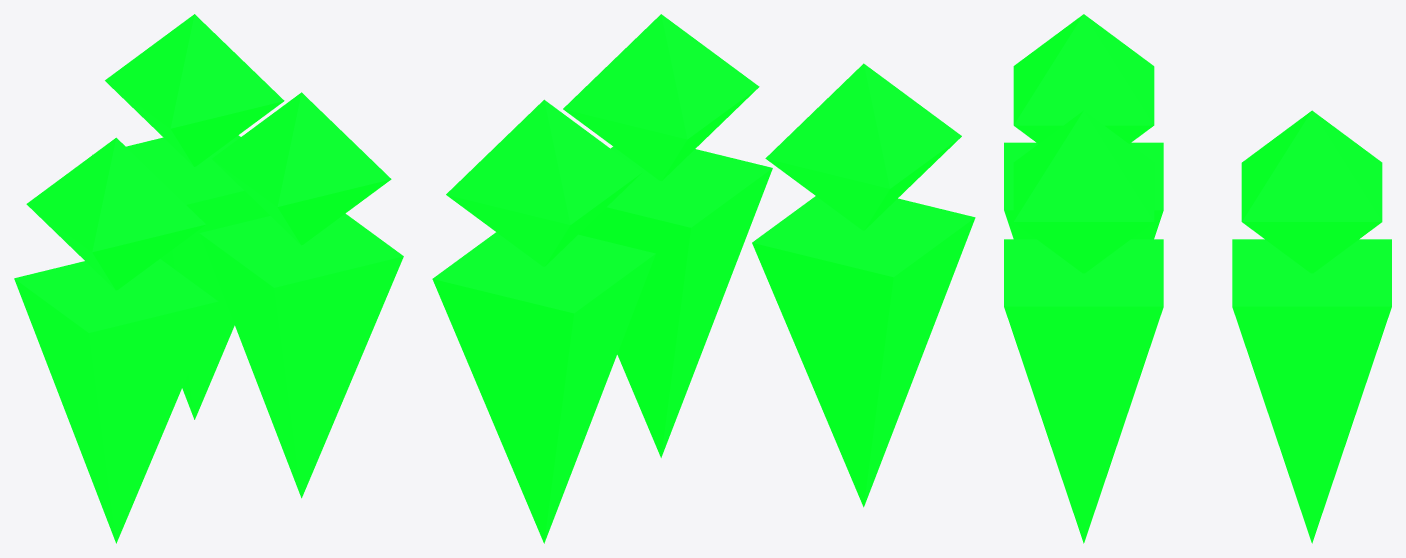
The model's file is person_g03.glb.
The picture shows the model from 3 angles, left to right: view 1: azimuth 30°, elevation 25°; view 2: azimuth 150°, elevation 25°; view 3: azimuth 270°, elevation 25°; orthographic projection. The views are drawn at different scales.
Visible parts, largest first — view 1: person.011, person.012, person.013; view 2: person.012, person.013, person.011; view 3: person.011, person.013, person.012.
Part boxes in pixels (bbox=[...]): person.011: bbox=[199, 92, 403, 498]; person.012: bbox=[14, 137, 218, 543]; person.013: bbox=[92, 14, 284, 419]; person.012: bbox=[752, 63, 975, 507]; person.013: bbox=[432, 99, 655, 543]; person.011: bbox=[563, 14, 772, 457]; person.011: bbox=[1004, 110, 1163, 543]; person.013: bbox=[1232, 110, 1391, 543]; person.012: bbox=[1004, 14, 1163, 239].
Size of the model in its own units: 1.7 by 2.1 by 1.7.
